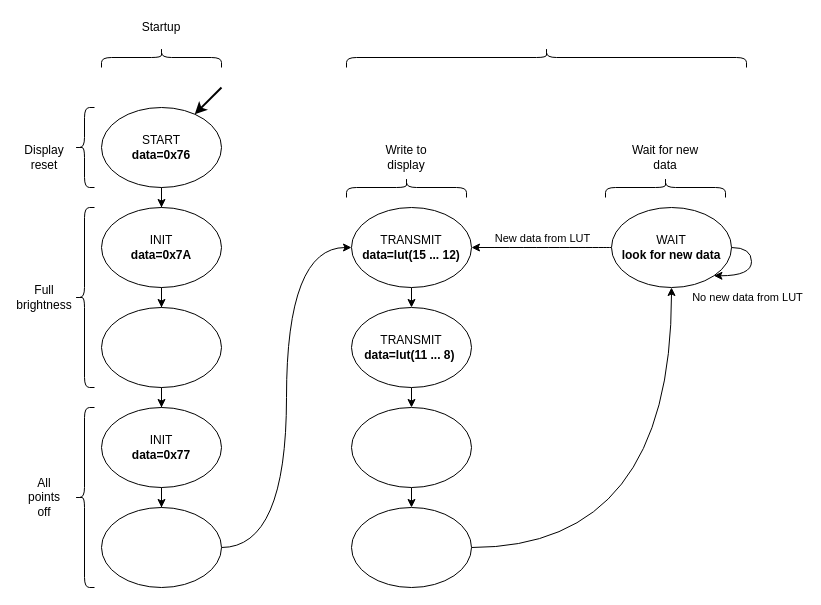
This 821x605 diagram has some shape labels left out. Each missing label, with the centre of its shape:
INIT data=0x00: the point at 161,547
INIT data=0xFF: the point at 161,347
Loop: the point at 546,57
START data=lut(3 ... 0): the point at 411,547
TRANSMIT data=lut(7 ... 4): the point at 411,447
